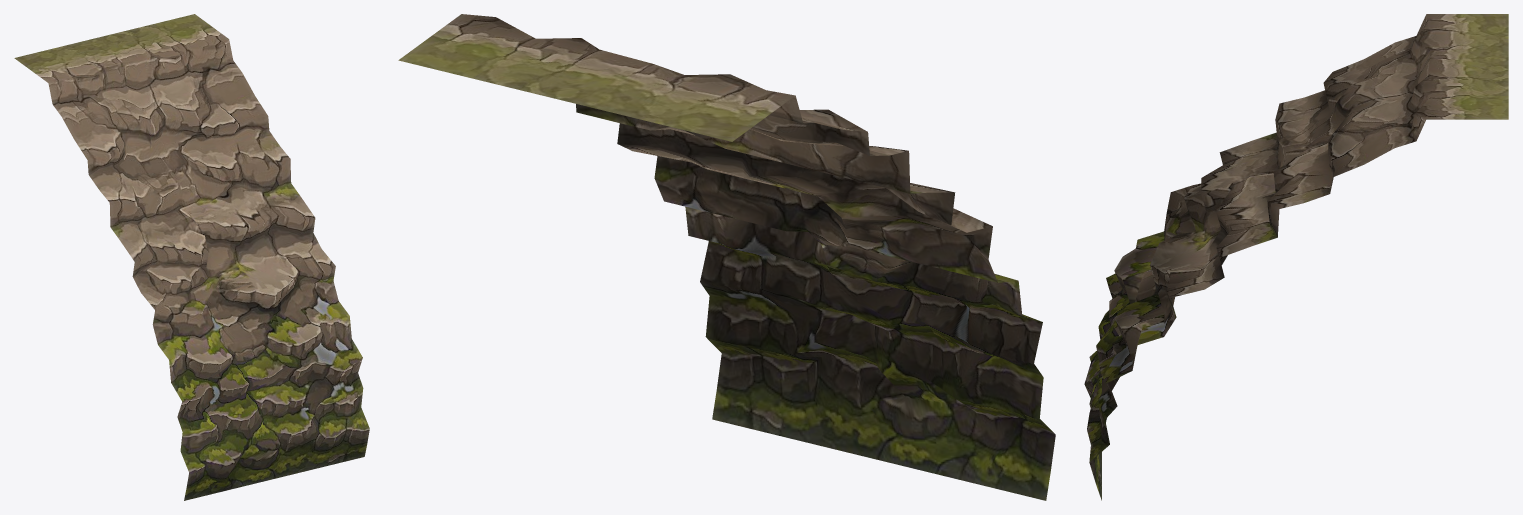
Rendered from Cliff.glb.
3 views of the same model, side by side, from view 1: azimuth 30°, elevation 25°; view 2: azimuth 150°, elevation 25°; view 3: azimuth 270°, elevation 25° (orthographic). The views are drawn at different scales.
Parts seen in each view (by area): view 1: tripo_node_4c046f87-f517-4786-b4c3-2774ccd973fe; view 2: tripo_node_4c046f87-f517-4786-b4c3-2774ccd973fe; view 3: tripo_node_4c046f87-f517-4786-b4c3-2774ccd973fe.
Part boxes in pixels (x1=…): tripo_node_4c046f87-f517-4786-b4c3-2774ccd973fe: x1=14, y1=14, x2=369, y2=500; tripo_node_4c046f87-f517-4786-b4c3-2774ccd973fe: x1=398, y1=14, x2=1055, y2=500; tripo_node_4c046f87-f517-4786-b4c3-2774ccd973fe: x1=1084, y1=14, x2=1508, y2=500.
Bounding box in the file's own units: 0.5879 × 0.9902 × 0.998.
1 material, 1 textured.
